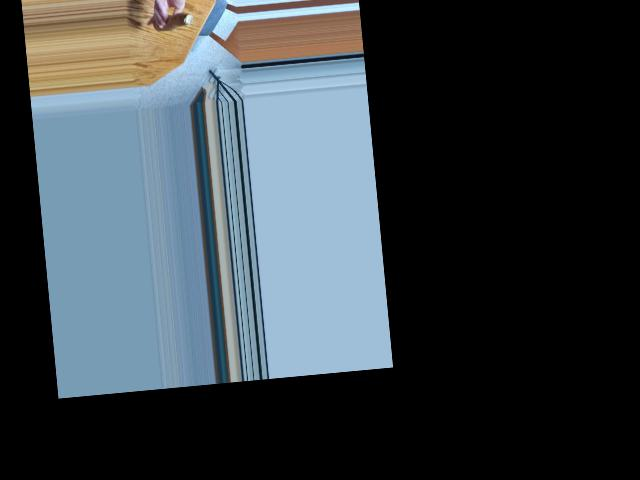sweet_potato: (154, 11, 187, 32)
